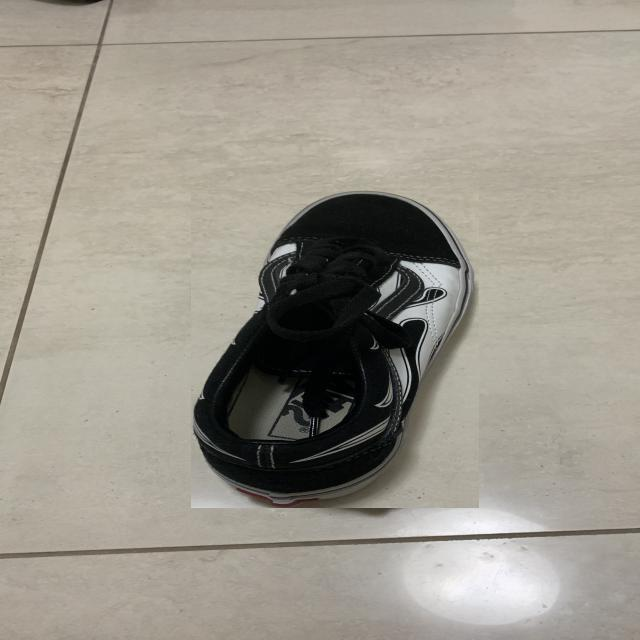shoe: (191, 188, 479, 508)
